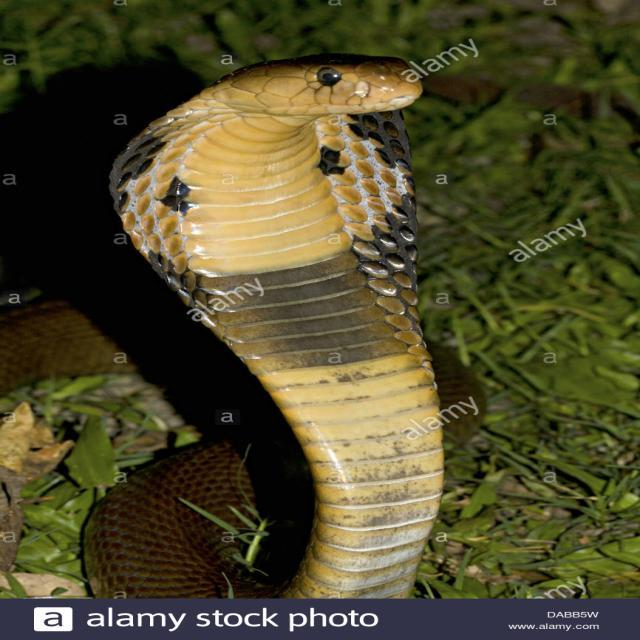Snake: (82, 51, 451, 598)
